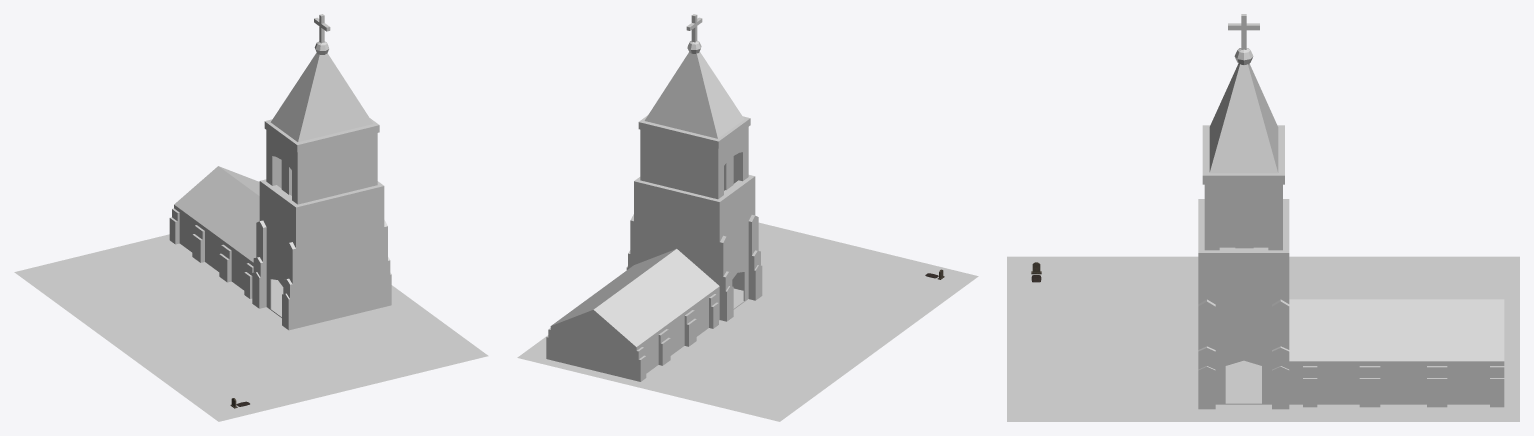
File: GraveyardV2.fbx
3 views of the same model, side by side, from view 1: azimuth 30°, elevation 25°; view 2: azimuth 150°, elevation 25°; view 3: azimuth 270°, elevation 25° (orthographic). The views are drawn at different scales.
Parts seen in each view (by area): view 1: Plane, Plane.001; view 2: Plane.001, Plane; view 3: Plane.001, Plane.
Boxes of the visible parts, x1,y1,x2,y2 form: Plane: (14, 234, 488, 421); Plane.001: (169, 14, 391, 330); Plane.001: (546, 14, 762, 381); Plane: (517, 222, 978, 421); Plane.001: (1198, 14, 1504, 409); Plane: (1007, 256, 1519, 421).
Size of the model in its own units: 4485 by 4591 by 5884.
2 materials, 2 textured.
